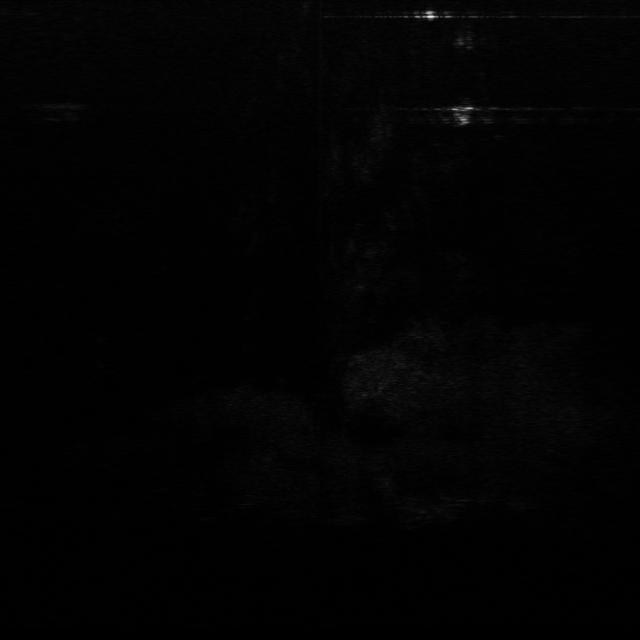rov: (447, 103, 481, 128)
